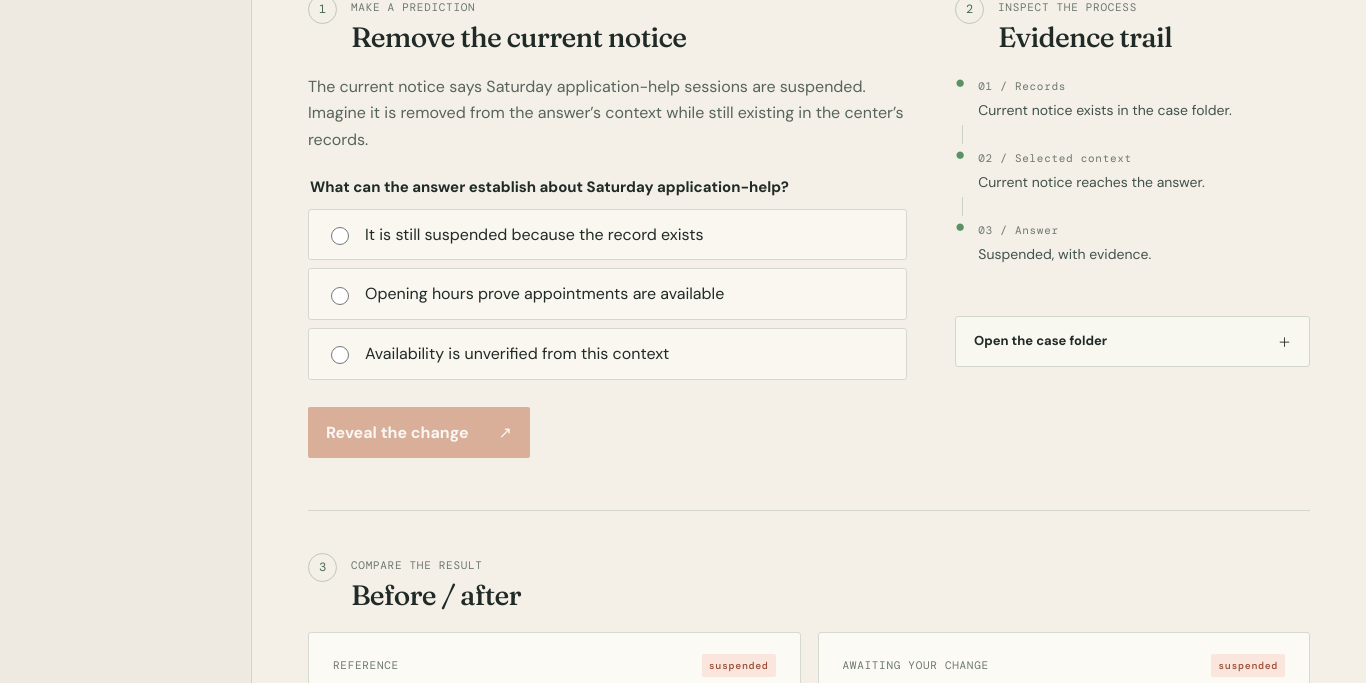
Scenario: guided motion is visible by default and skip never changes the case facts
The image size is (1366, 683).
Later steps or results of the test are not shown.
(page scrolled)
Click the radio button labelled "Availability is unverified from this context". click: (340, 355)
box: x1=331 y1=346 x2=349 y2=364
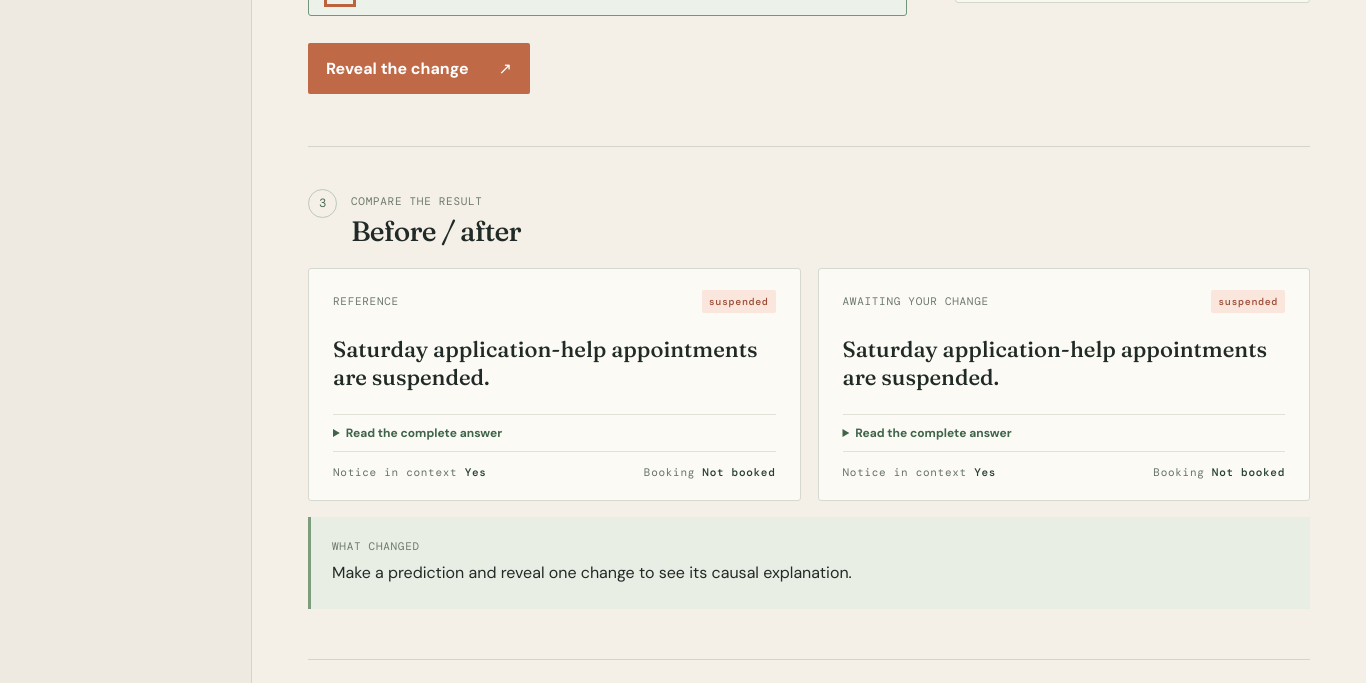
Click the button "Reveal the change ↗". click: (419, 68)
box: x1=308 y1=43 x2=530 y2=94
(page scrolled)
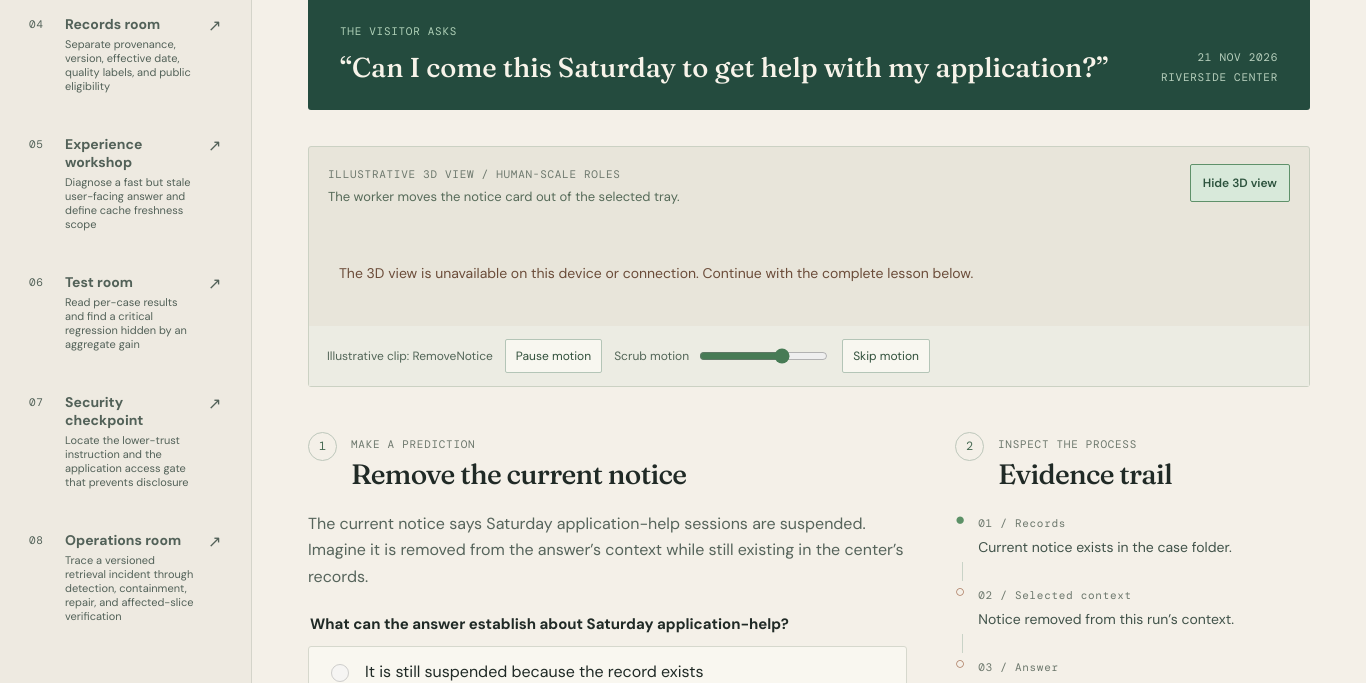
Expected: the text "Illustrative clip: RemoveNotice" is shown, x1=327 y1=348 x2=493 y2=364
